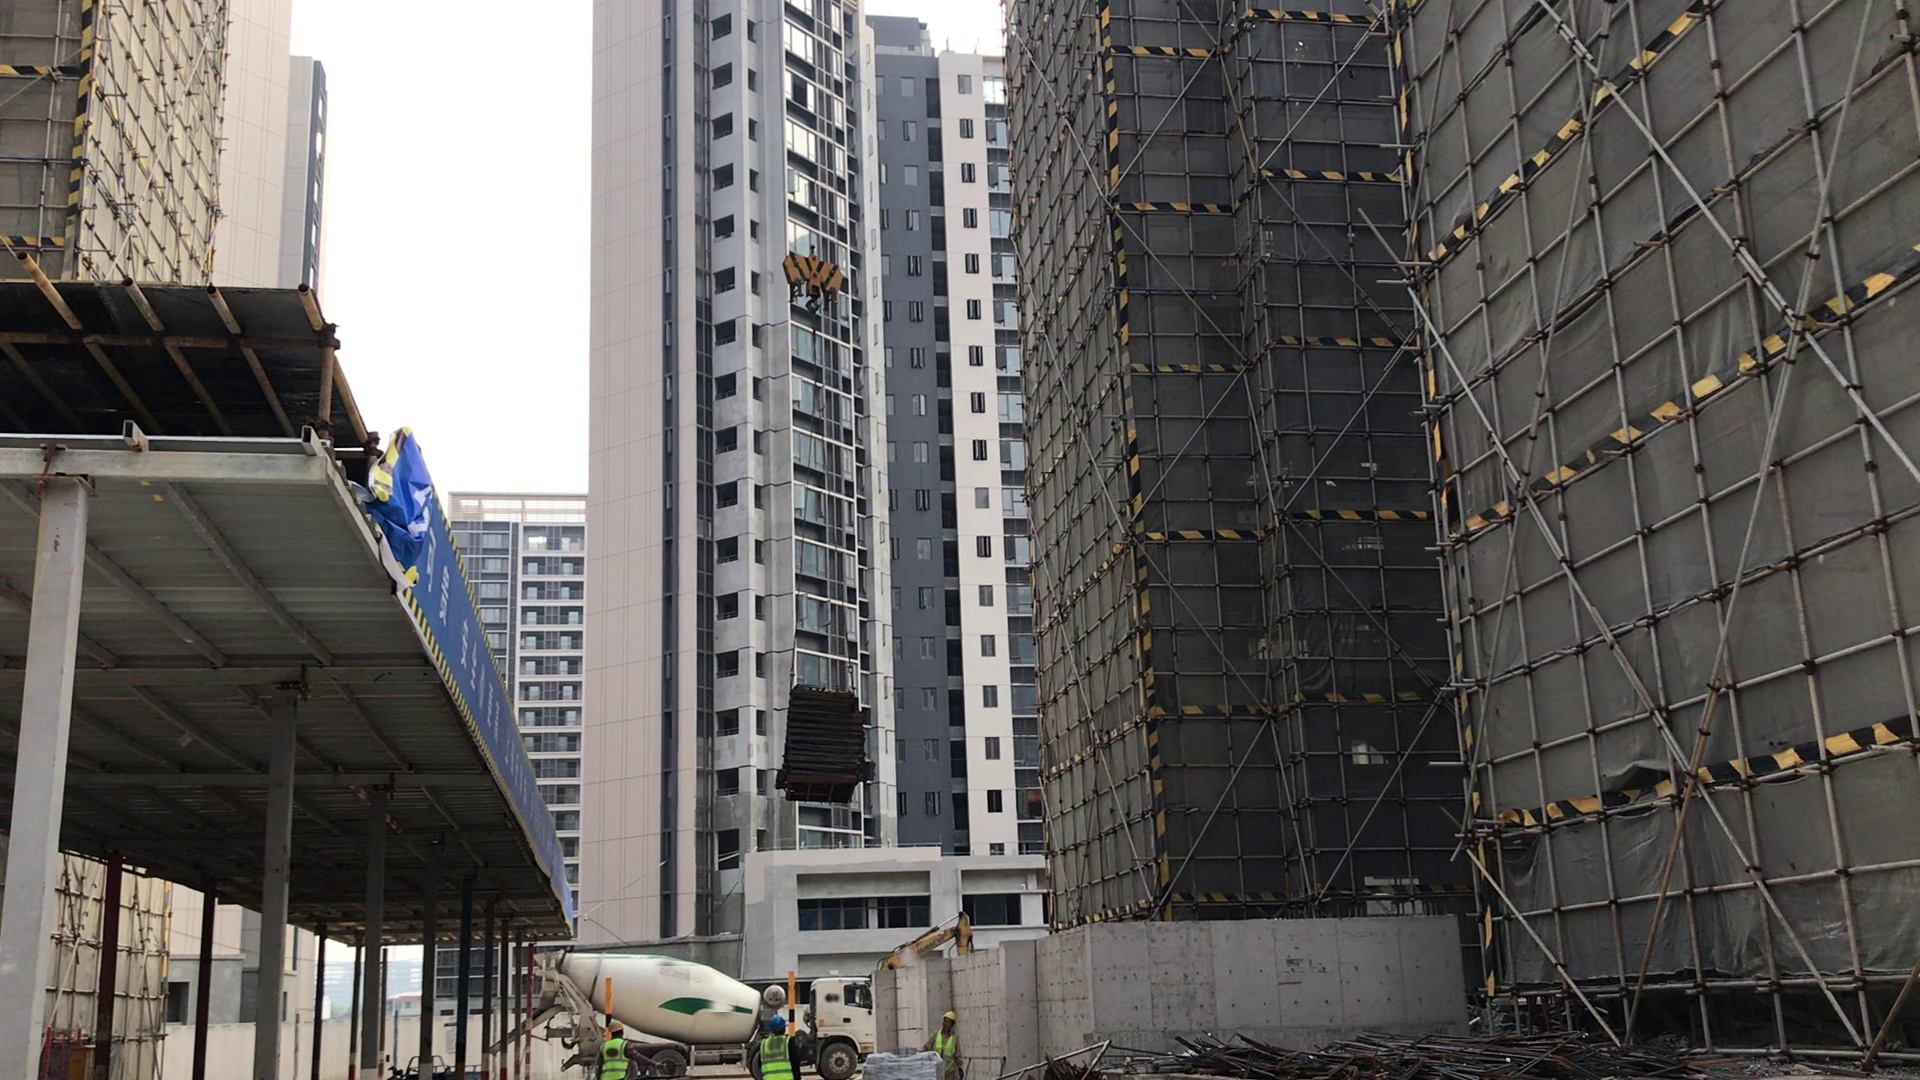helmet: (939, 1003, 970, 1028), (600, 1016, 632, 1037), (761, 1011, 796, 1029)
person: (757, 1013, 805, 1080), (938, 1001, 968, 1073), (599, 1021, 636, 1080)
vest: (760, 1032, 797, 1077), (600, 1037, 630, 1077), (930, 1030, 958, 1058)
